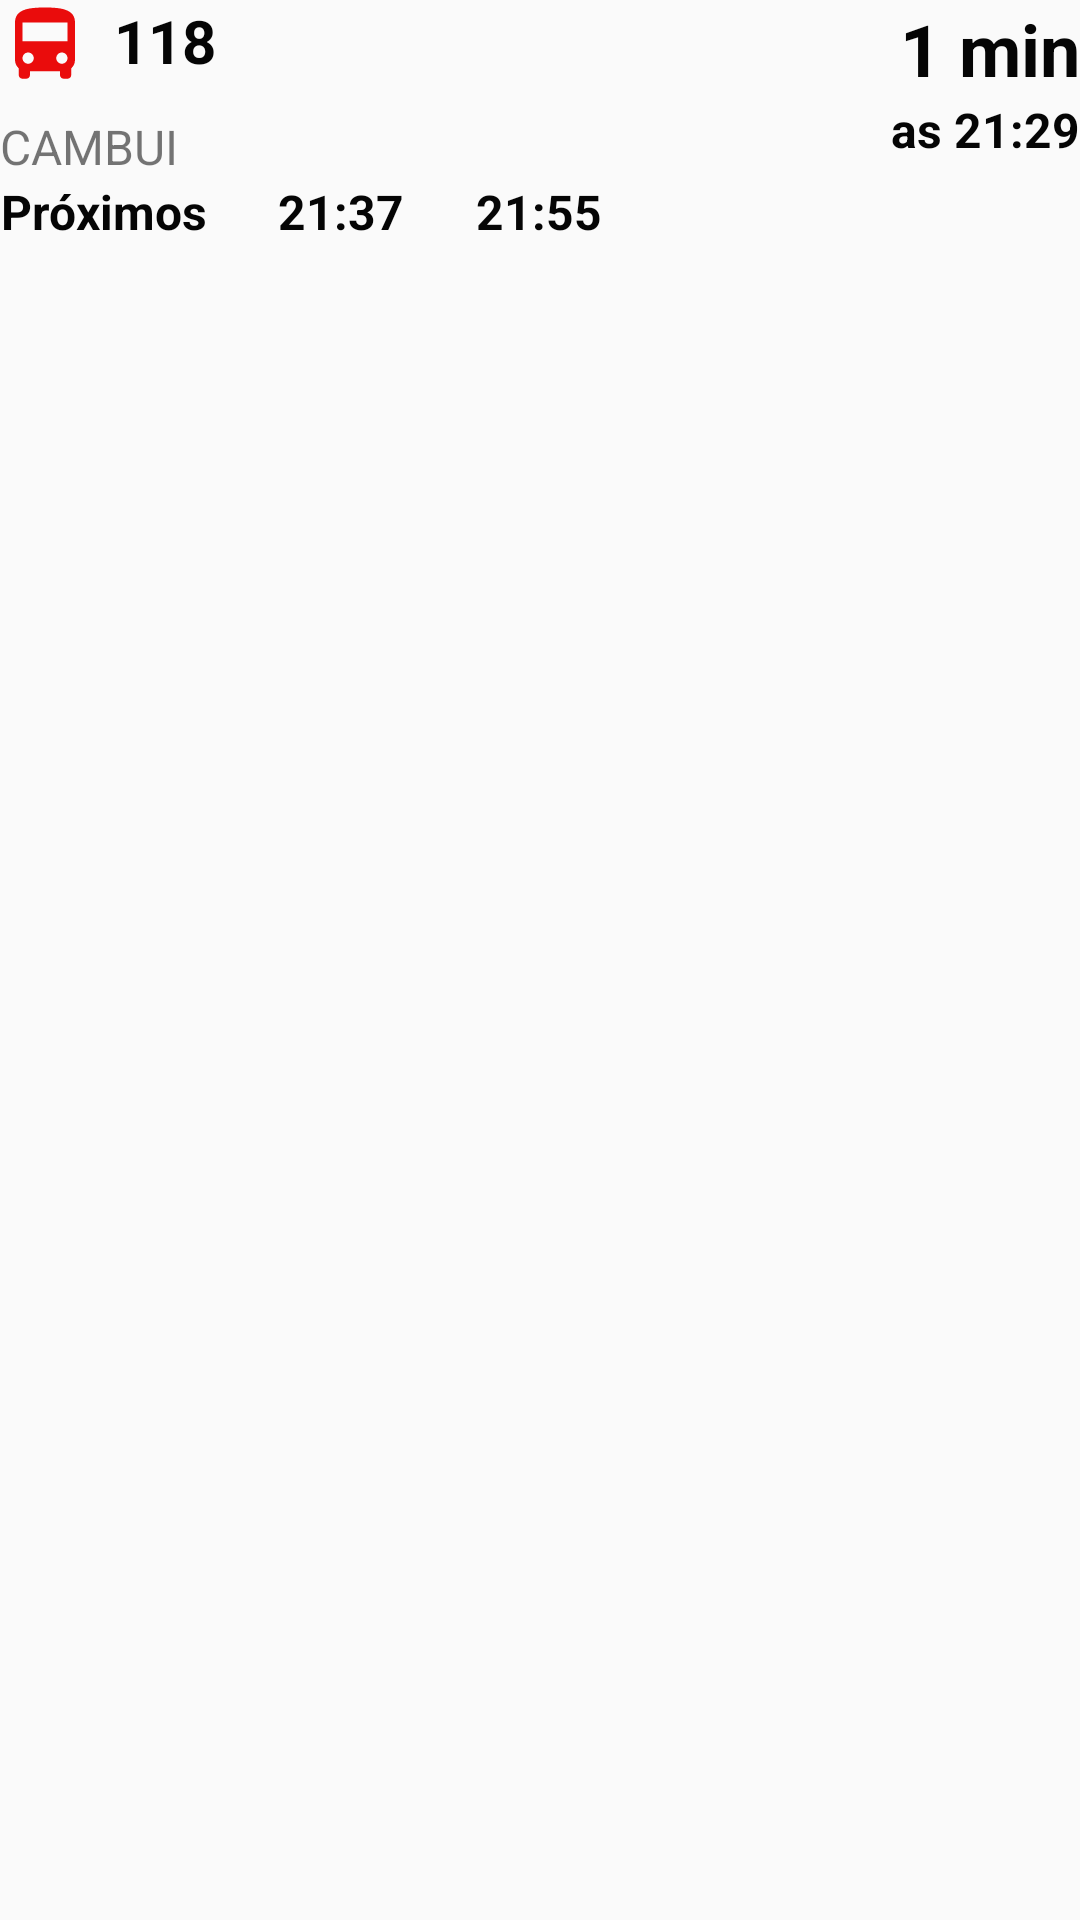

Where to tap for icons on this 1080x1920 app screen, as point (x, y):
directions bus: point (45, 43)
